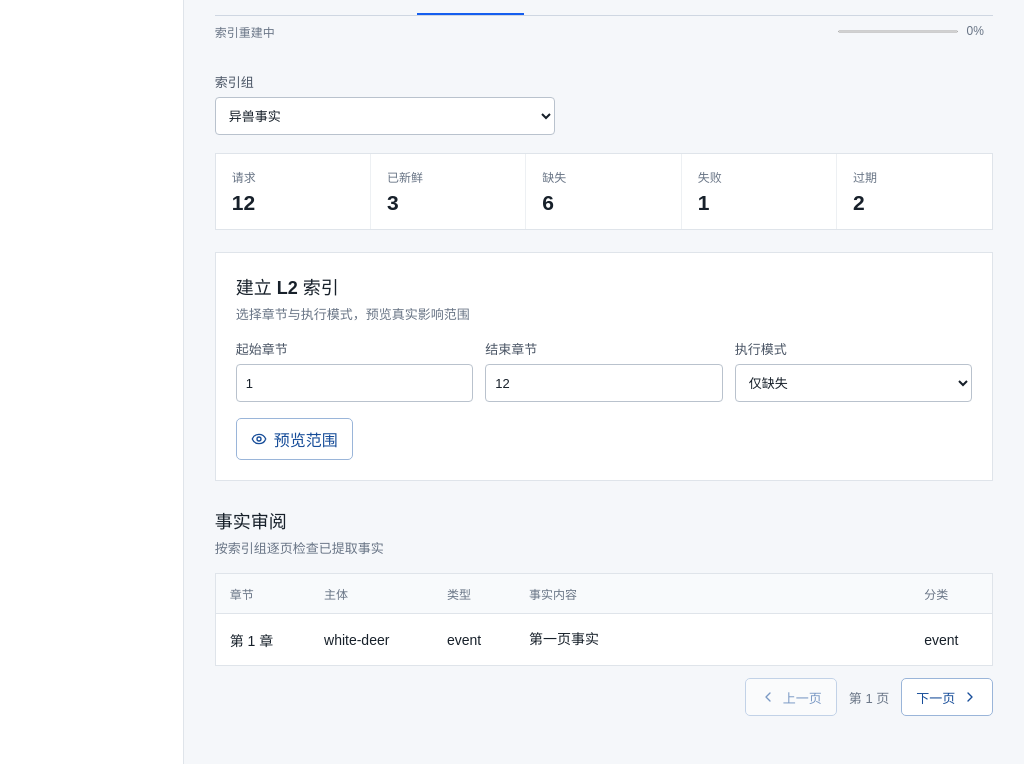
Test: book workspace › paginates fact review and invalidates library projections on SSE
(page scrolled)
Expected: the text "第一页事实" is shown, x1=515 y1=614 x2=910 y2=665
Expected: the number field labelled "结束章节" holds "12", x1=485 y1=364 x2=723 y2=402
Click the button "下一页": point(947, 697) x1=901 y1=678 x2=993 y2=716
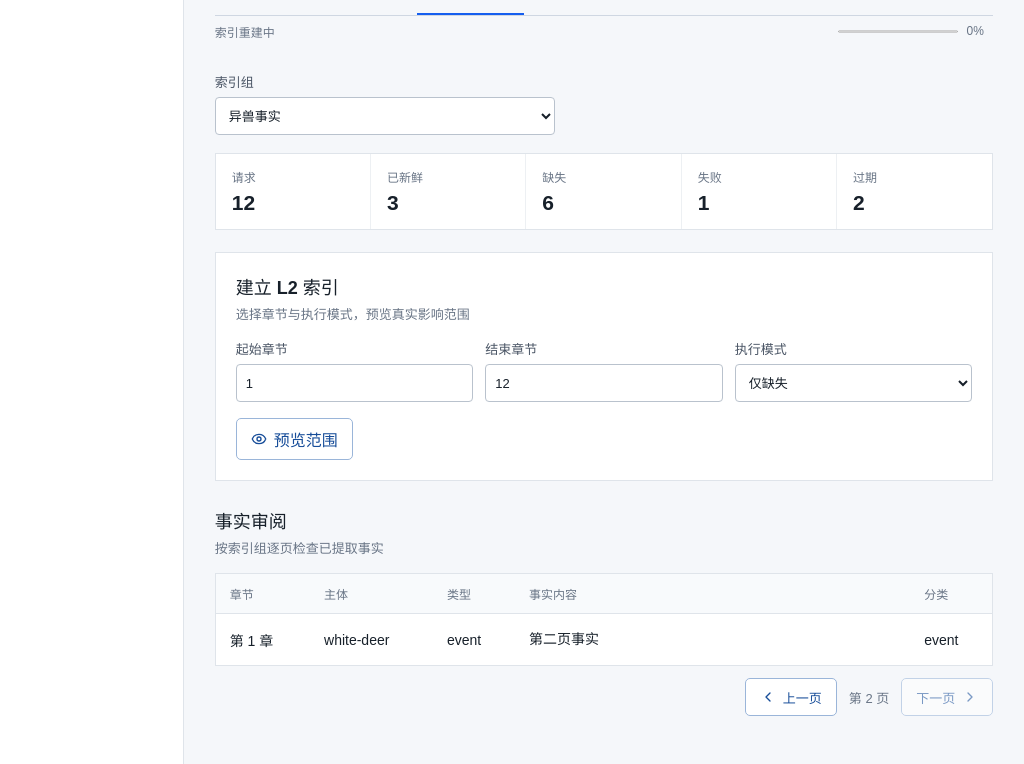
Expected: the text "第二页事实" is shown, x1=515 y1=614 x2=910 y2=665
